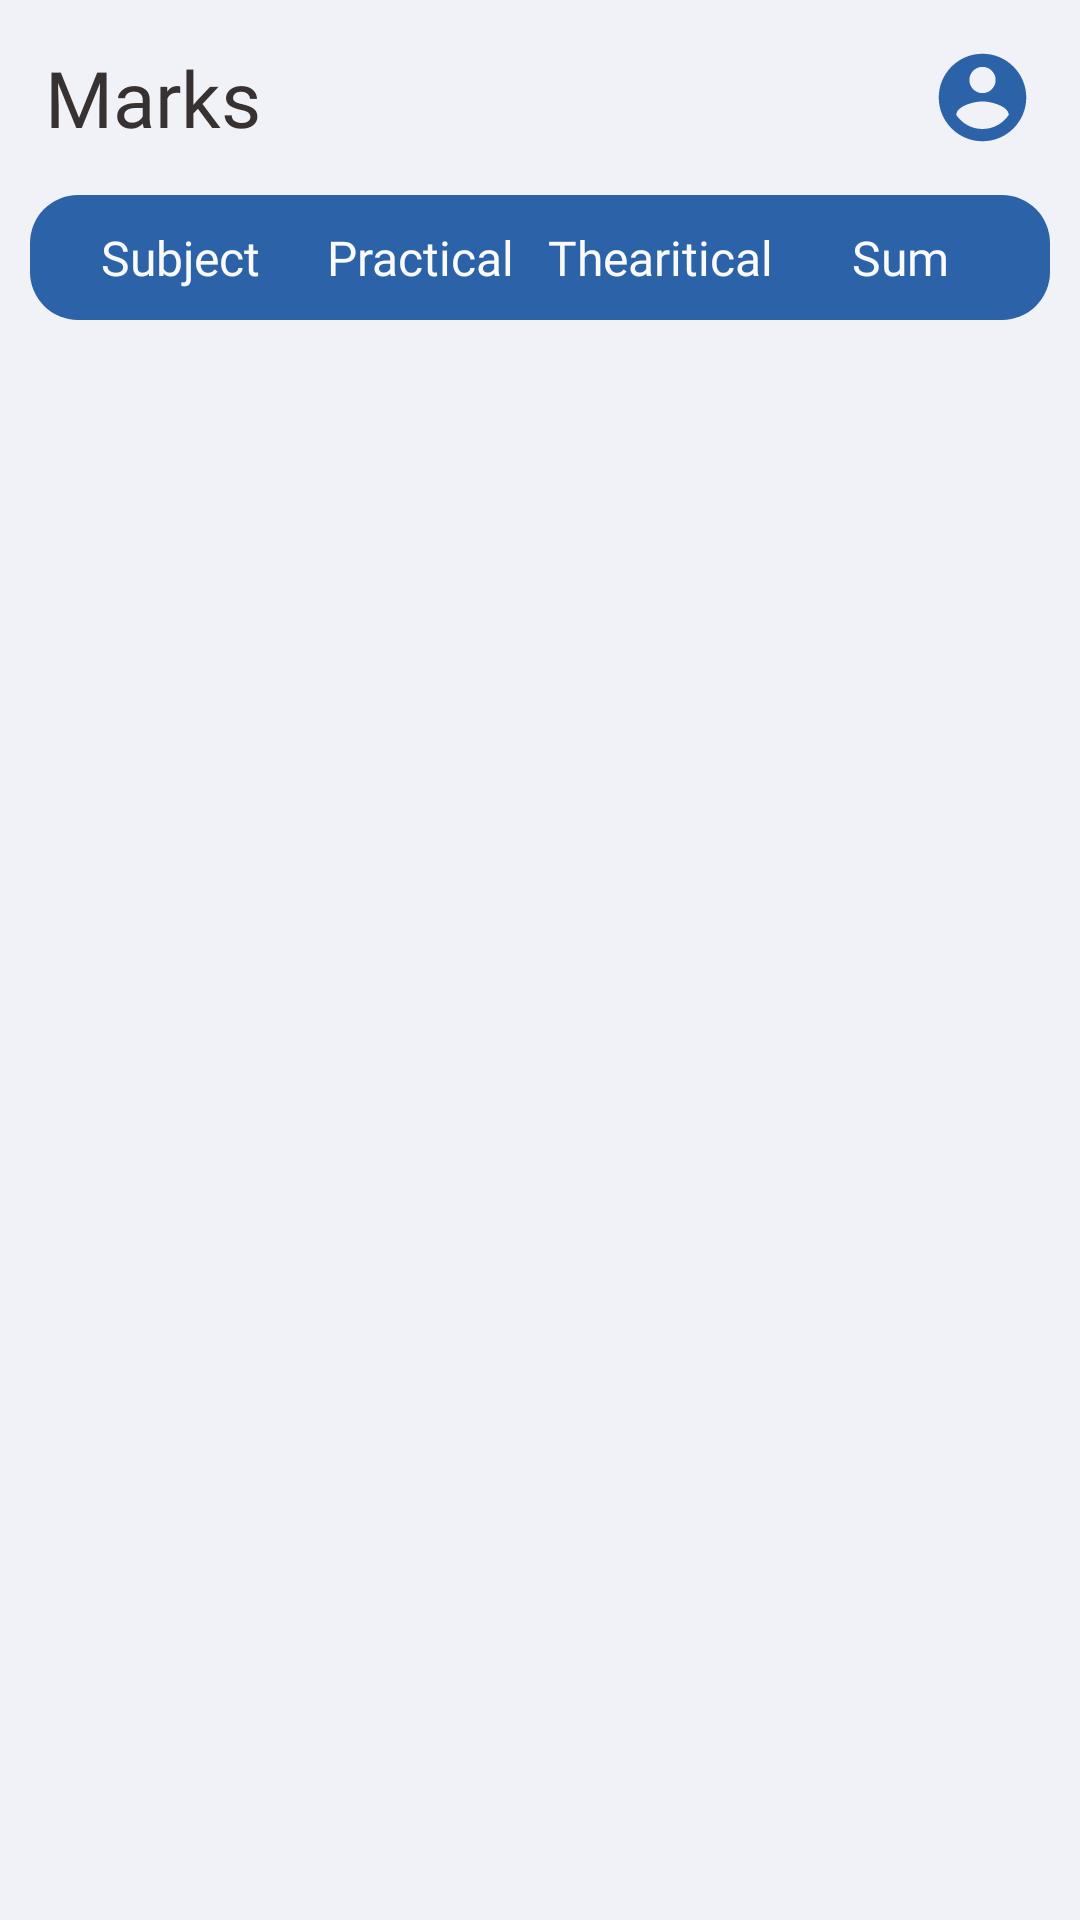

Screen size 1080x1920. Icon name, then its center in pixels as [x,y]:
account focusedd: [982,97]
